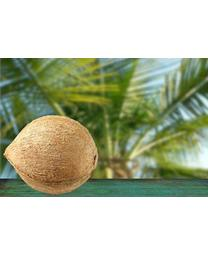coconut: (5, 114, 98, 194)
